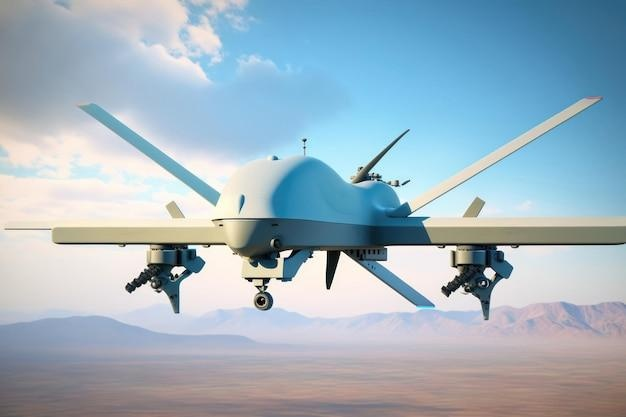aircraft: (7, 103, 613, 315)
